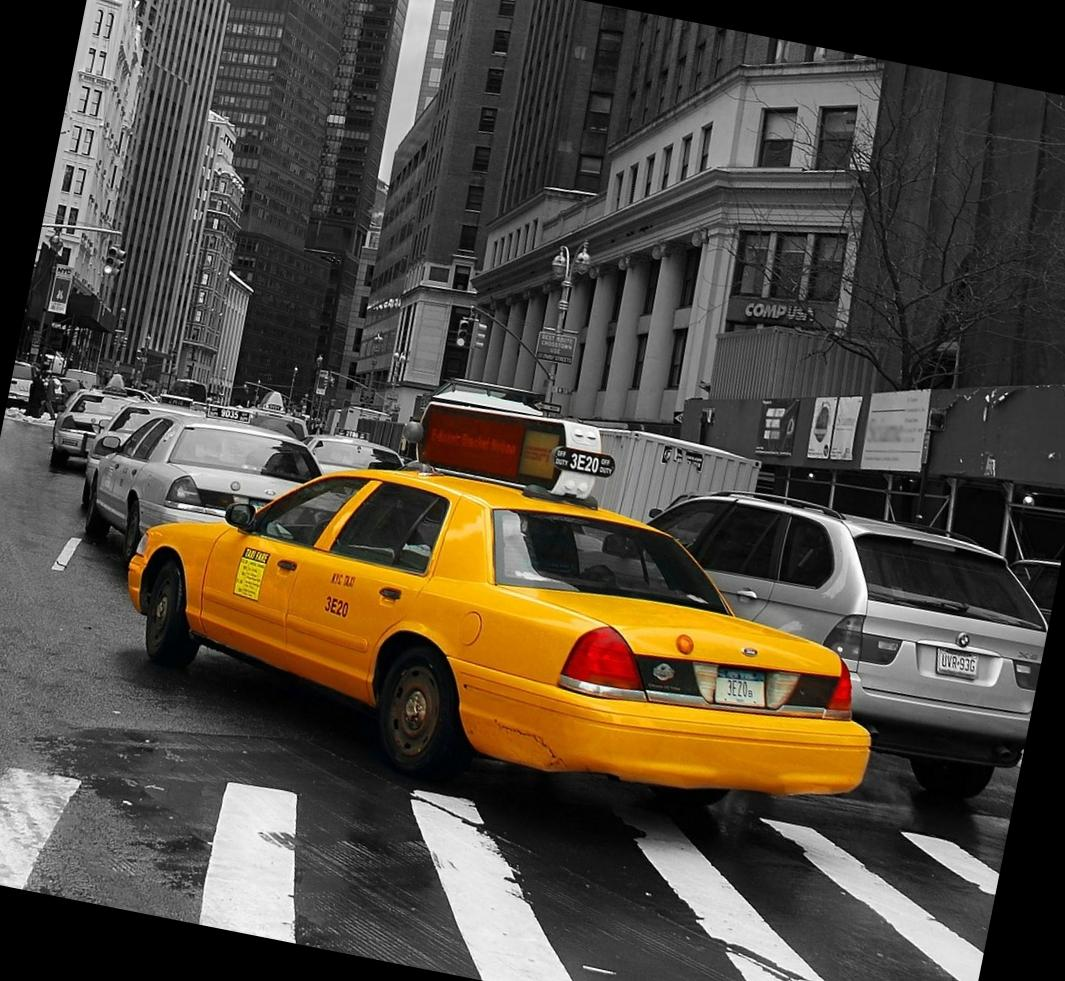taxi: (102, 454, 891, 834)
